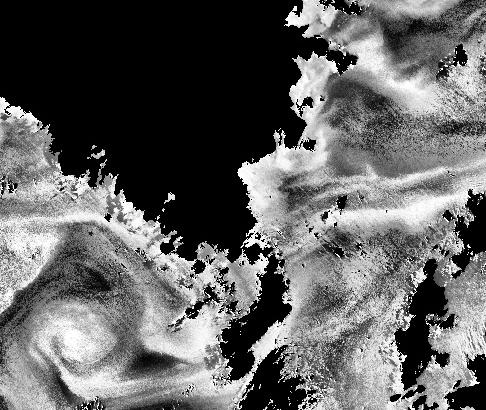AE: (30, 298, 119, 380)
